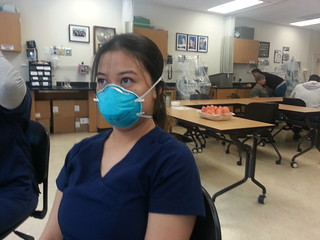n95: (91, 83, 144, 131)
